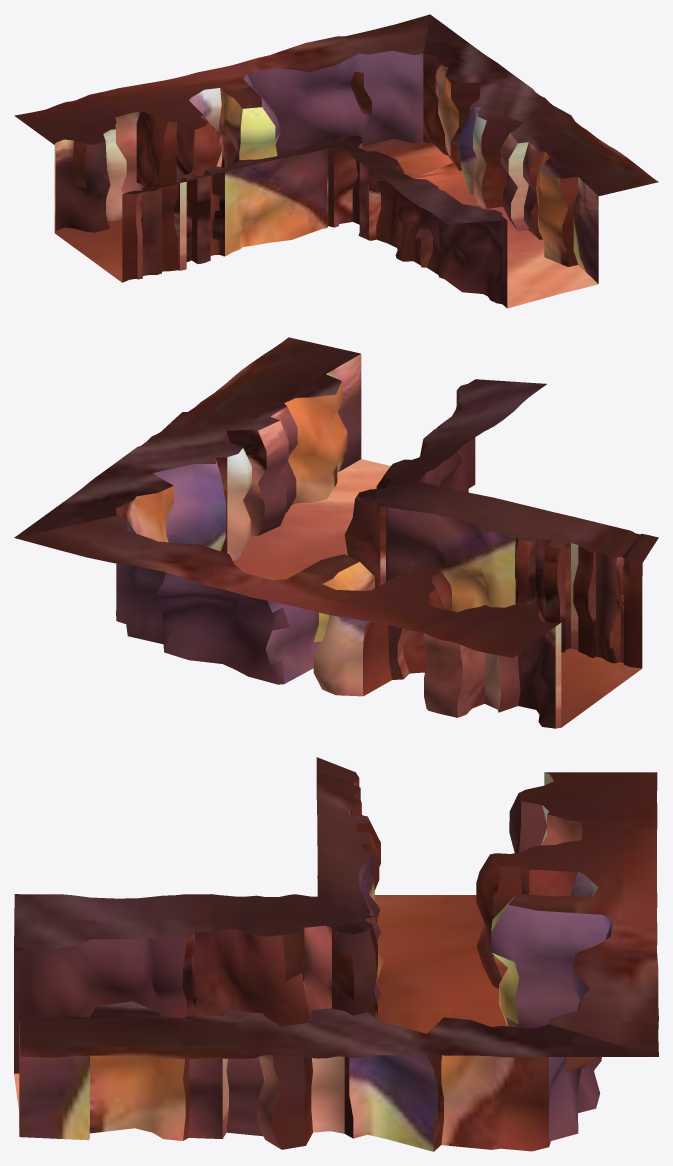
File: Rock10_dae.DAE
3 views of the same model, one above another, from view 1: azimuth 30°, elevation 25°; view 2: azimuth 150°, elevation 25°; view 3: azimuth 270°, elevation 25° (orthographic). The views are drawn at different scales.
Visible parts, largest first — view 1: Canyon; view 2: Canyon; view 3: Canyon.
Boxes of the visible parts, x1=… form: Canyon: x1=14, y1=14, x2=658, y2=308; Canyon: x1=14, y1=337, x2=658, y2=728; Canyon: x1=14, y1=757, x2=658, y2=1151.
Size of the model in its own units: 1798 by 1728 by 416.
1 material, 1 textured.
